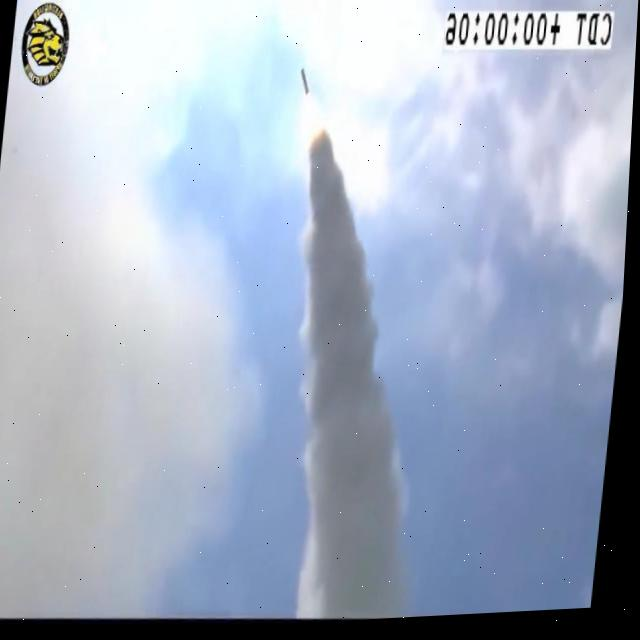missile: (299, 70, 315, 98)
